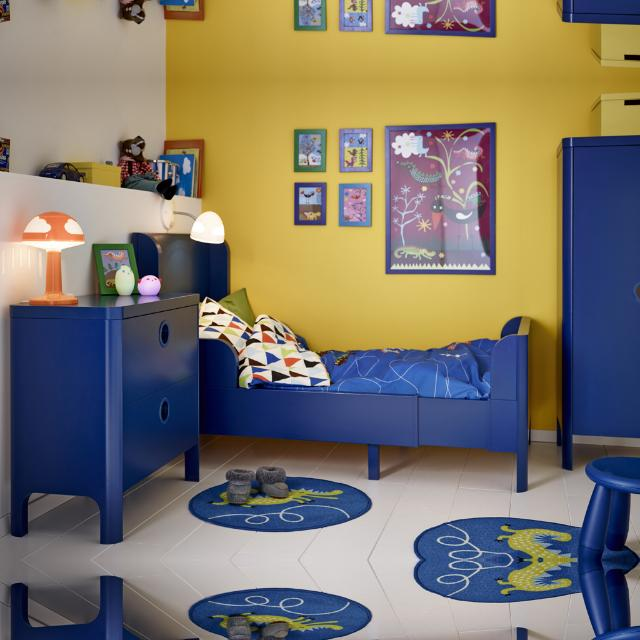bed: (134, 234, 530, 491)
dresser: (10, 294, 199, 543), (558, 135, 640, 469)
lamp: (22, 211, 85, 305), (160, 199, 225, 244)
rug: (189, 478, 371, 531), (189, 589, 371, 640), (414, 518, 581, 560), (414, 560, 581, 602), (602, 546, 639, 560), (602, 560, 639, 574)
stool: (578, 458, 640, 558), (578, 562, 640, 640)
wall-art: (385, 122, 495, 274), (385, 0, 495, 38), (339, 182, 371, 226), (340, 129, 372, 172), (295, 182, 326, 224), (295, 129, 326, 171), (340, 0, 372, 31), (295, 0, 326, 31)
